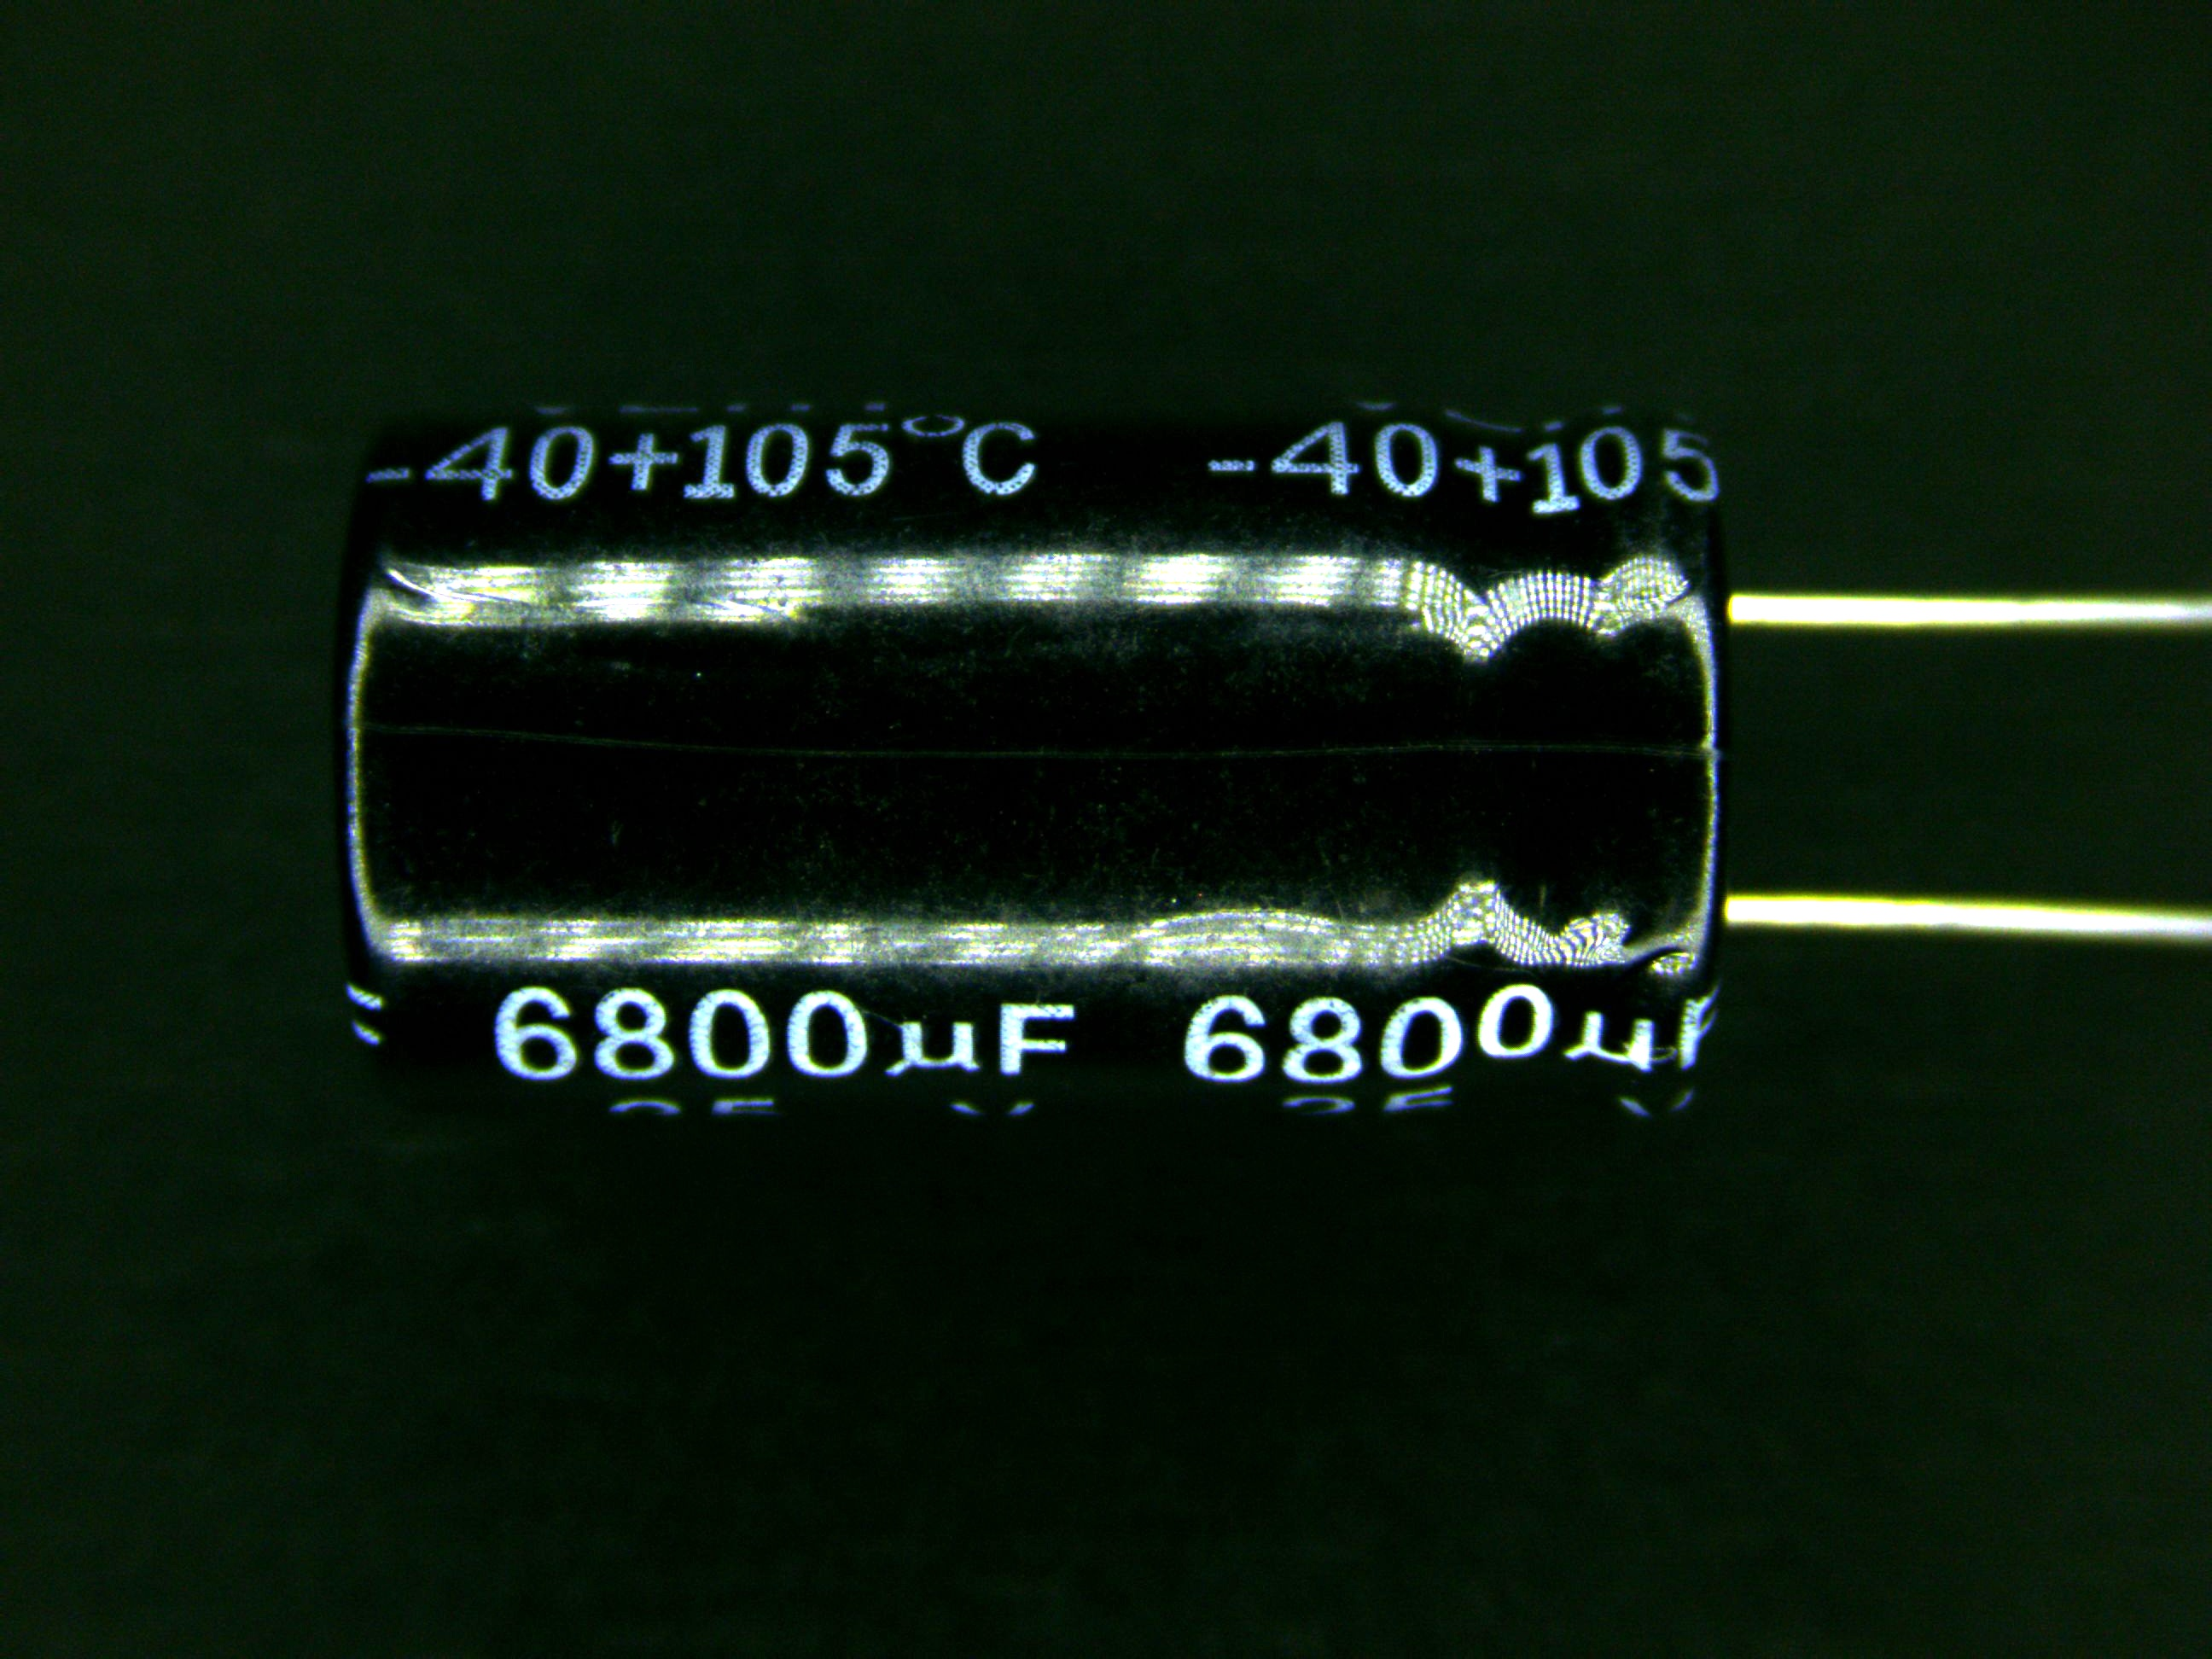c3: (320, 399, 2041, 1131)
